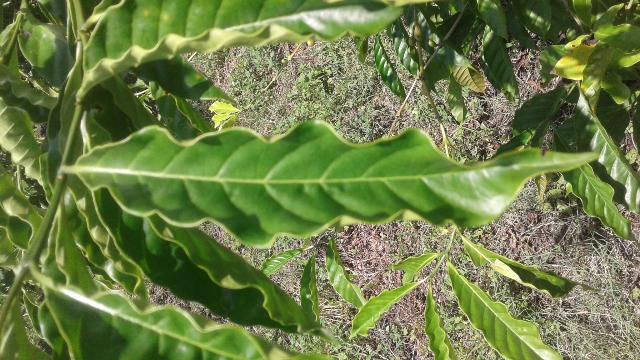healthy: (78, 121, 598, 247)
